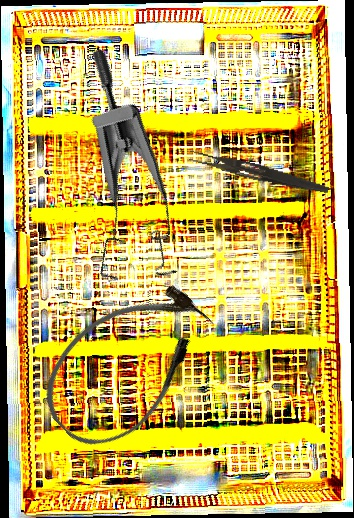Cannula: (22, 261, 232, 467)
Dressing Forceps: (187, 149, 331, 196)
Speculum: (2, 45, 219, 306)
